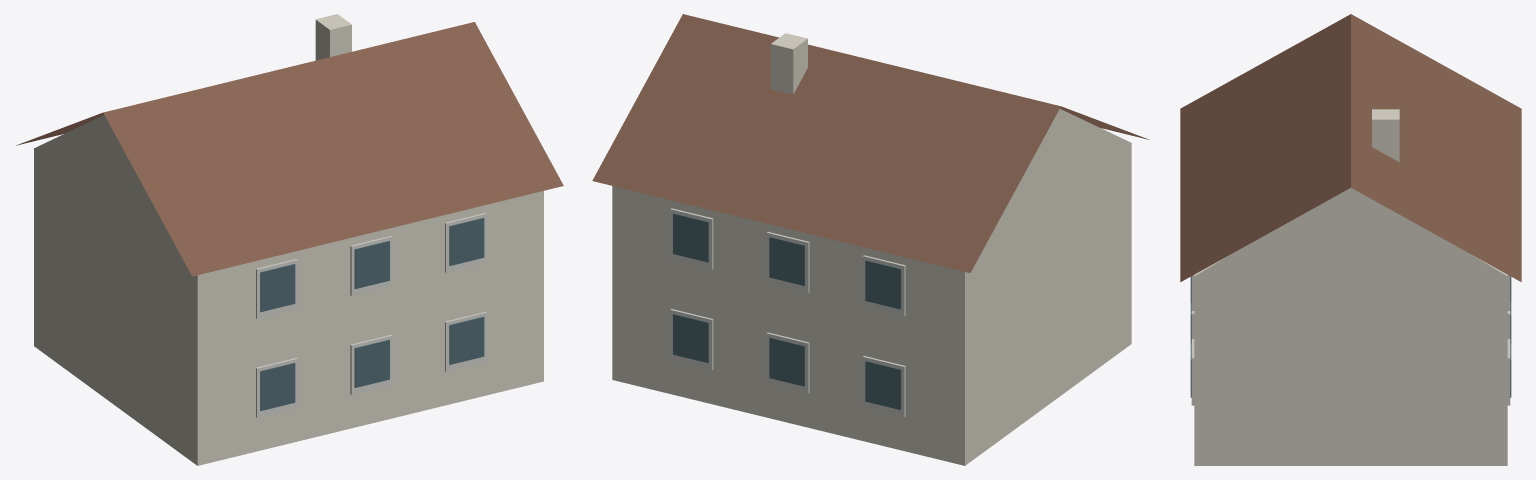
The model's file is House_0_LOD1.glb.
3 renders of one model, left to right at view 1: azimuth 30°, elevation 25°; view 2: azimuth 150°, elevation 25°; view 3: azimuth 270°, elevation 25°, orthographic. The views are drawn at different scales.
Visible parts, largest first — view 1: House_0_LOD1; view 2: House_0_LOD1; view 3: House_0_LOD1.
Part boxes in pixels (left/top/right/bottom): House_0_LOD1: left=16, top=14, right=563, bottom=465; House_0_LOD1: left=592, top=14, right=1149, bottom=465; House_0_LOD1: left=1180, top=14, right=1521, bottom=465.
Bounding box in the file's own units: 11.8 × 9.5 × 9.8.
